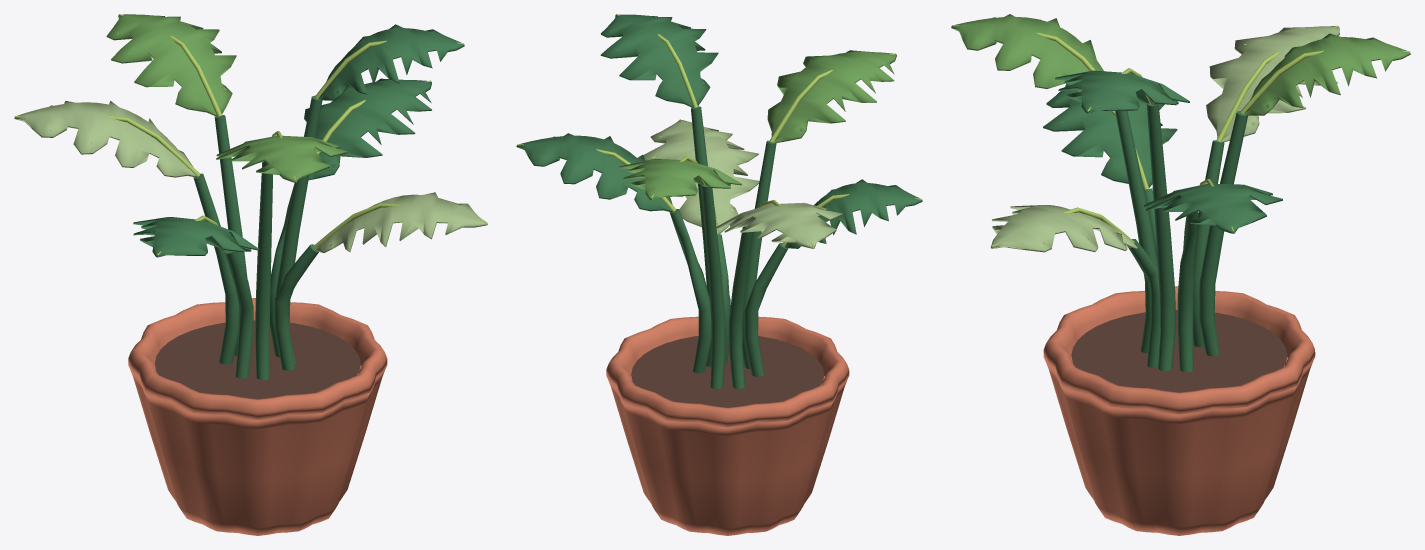
File: atelier_monstera.glb
3 renders of one model, left to right at view 1: azimuth 30°, elevation 25°; view 2: azimuth 150°, elevation 25°; view 3: azimuth 270°, elevation 25°, orthographic. The views are drawn at different scales.
Parts seen in each view (by area): view 1: Monstera en terracota.001; view 2: Monstera en terracota.001; view 3: Monstera en terracota.001.
Part boxes in pixels (<box>): Monstera en terracota.001: <box>14,14,487,535</box>; Monstera en terracota.001: <box>516,14,922,535</box>; Monstera en terracota.001: <box>951,14,1410,535</box>.
Size of the model in its own units: 0.8932 by 1.06 by 0.9225.
